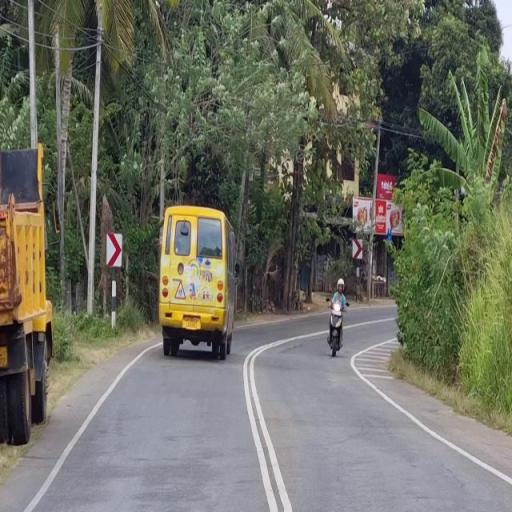double_white_line: (348, 344, 510, 486), (241, 337, 289, 512)
